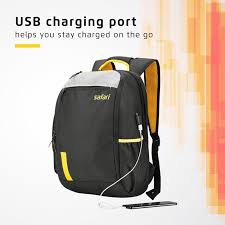backpack: (50, 55, 161, 199)
